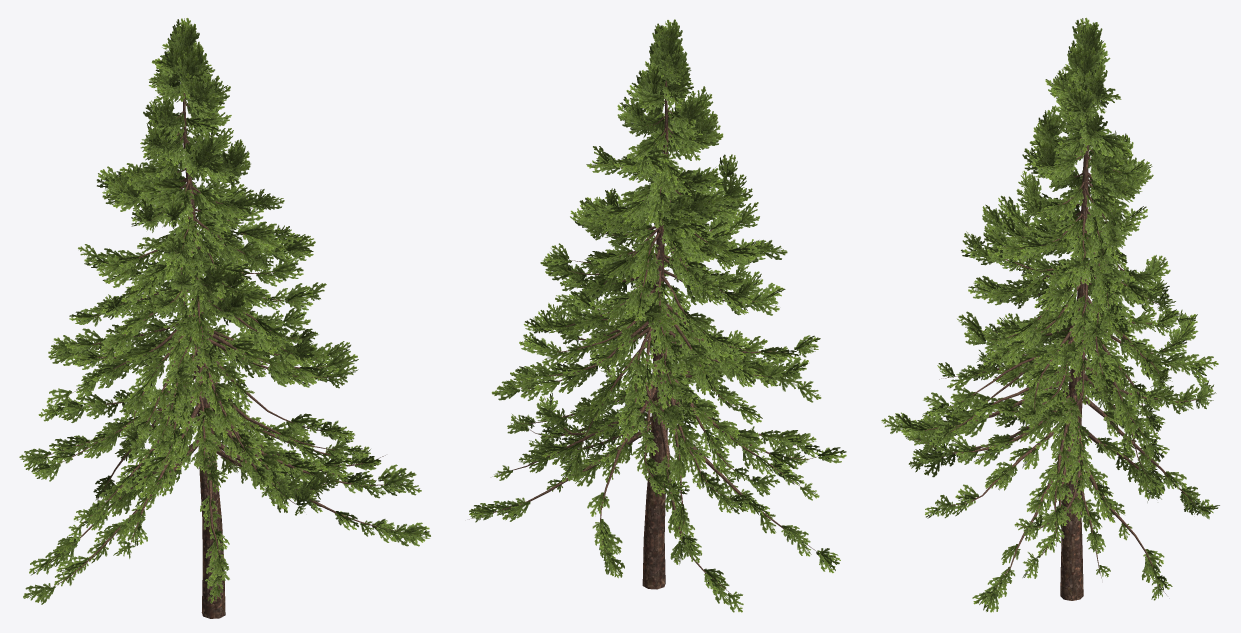
The model's file is Pino.glb.
3 renders of one model, left to right at view 1: azimuth 30°, elevation 25°; view 2: azimuth 150°, elevation 25°; view 3: azimuth 270°, elevation 25°, orthographic. The views are drawn at different scales.
Size of the model in its own units: 44.6 by 68.18 by 37.98.
2 materials, 2 textured.
